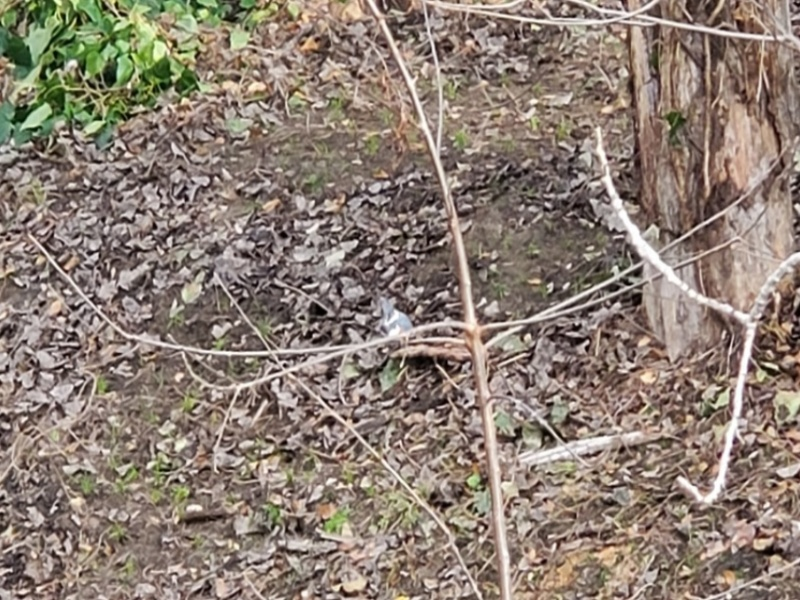kingfisher: (376, 299, 414, 341)
